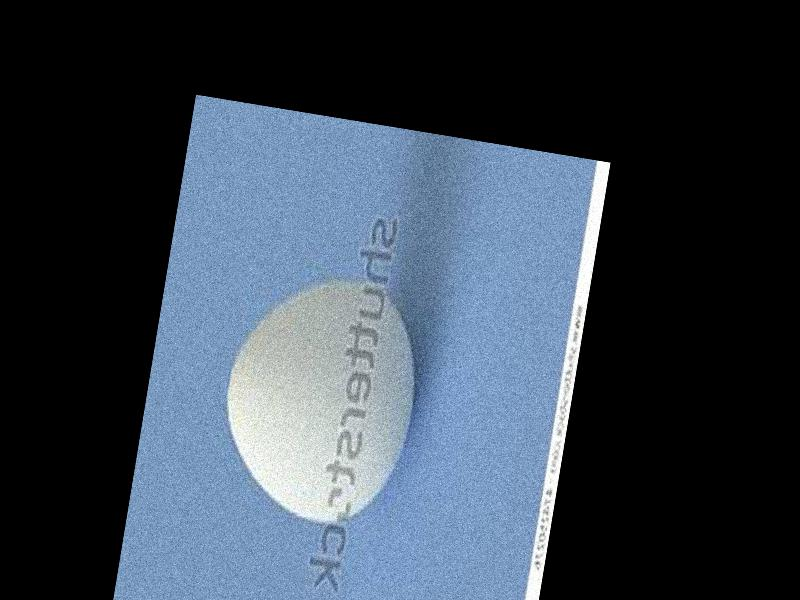Eggs: (209, 263, 432, 535)
